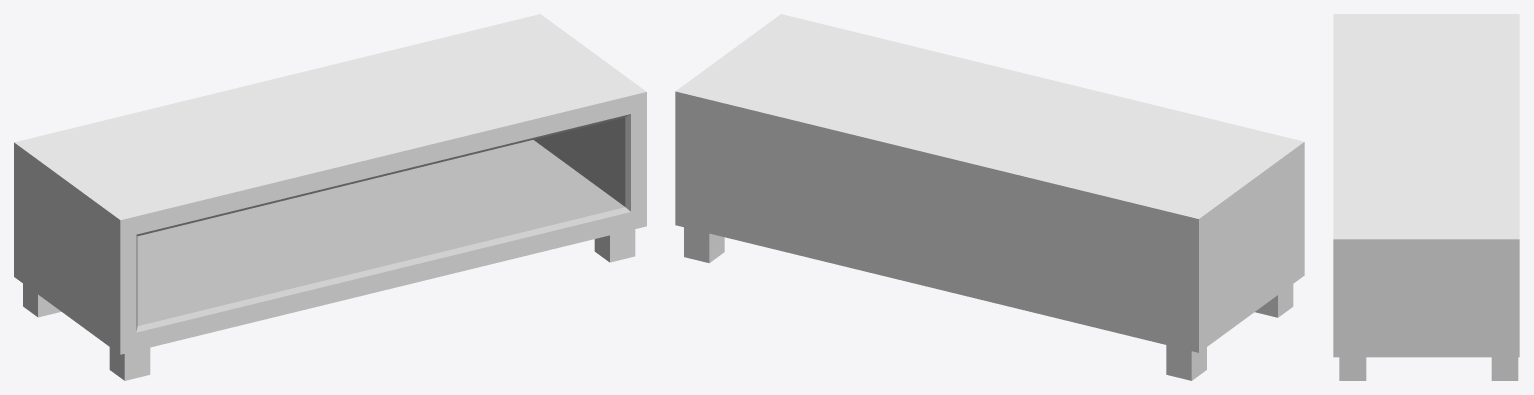
File: Prop_Table_18.fbx
The picture shows the model from 3 angles, left to right: view 1: azimuth 30°, elevation 25°; view 2: azimuth 150°, elevation 25°; view 3: azimuth 270°, elevation 25°; orthographic projection. The views are drawn at different scales.
Visible parts, largest first — view 1: Prop_Table_18; view 2: Prop_Table_18; view 3: Prop_Table_18.
Boxes of the visible parts, x1,y1,x2,y2 form: Prop_Table_18: [14, 14, 646, 380]; Prop_Table_18: [675, 14, 1304, 380]; Prop_Table_18: [1333, 14, 1519, 380].
Bounding box in the file's own units: 200 × 60 × 70.
